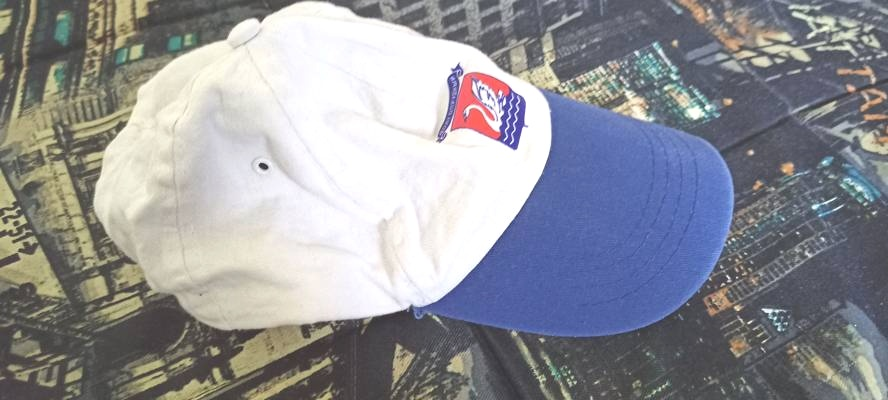Hat: (103, 0, 766, 359)
